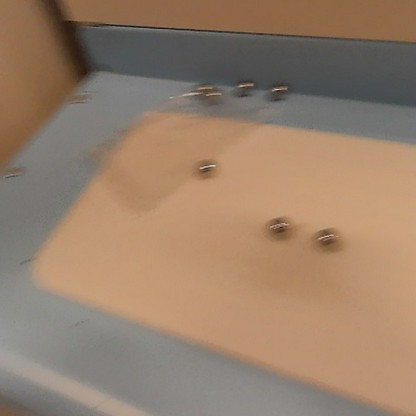ironball: (259, 209, 295, 243), (311, 222, 346, 256), (188, 155, 219, 181), (199, 87, 230, 110), (227, 72, 255, 96), (262, 81, 291, 101), (193, 78, 214, 93)
